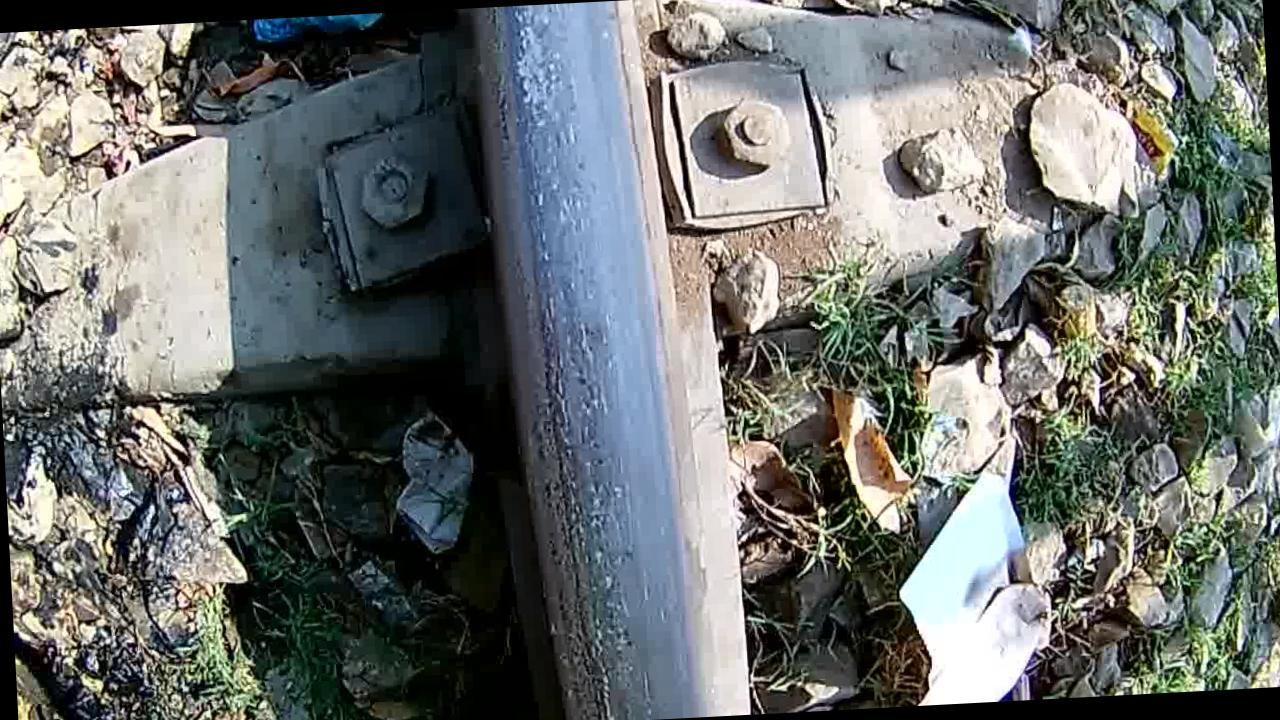clip_missing: (496, 0, 680, 720)
